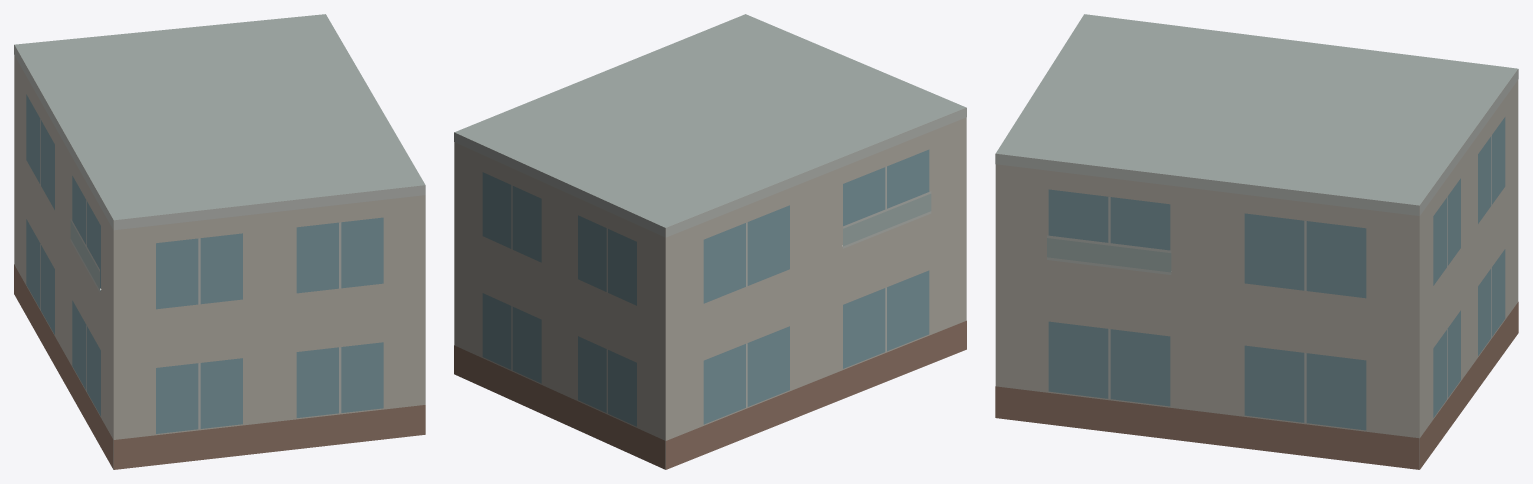
File: survey-upis-32874456.glb
3 views of the same model, side by side, from view 1: azimuth 30°, elevation 25°; view 2: azimuth 150°, elevation 25°; view 3: azimuth 270°, elevation 25° (orthographic). The views are drawn at different scales.
Visible parts, largest first — view 1: survey-upis-32874456.tmp; view 2: survey-upis-32874456.tmp; view 3: survey-upis-32874456.tmp.
Boxes of the visible parts, x1,y1,x2,y2 form: survey-upis-32874456.tmp: (14, 14, 425, 469); survey-upis-32874456.tmp: (454, 14, 966, 469); survey-upis-32874456.tmp: (995, 14, 1518, 469).
Size of the model in its own units: 9.49 by 6.1 by 10.95.
